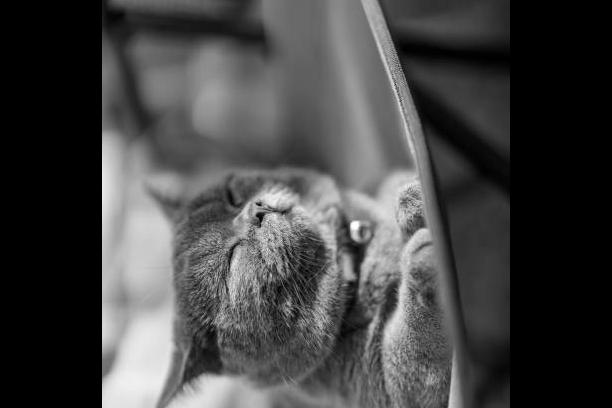Non_Gorille: (103, 0, 510, 408)
